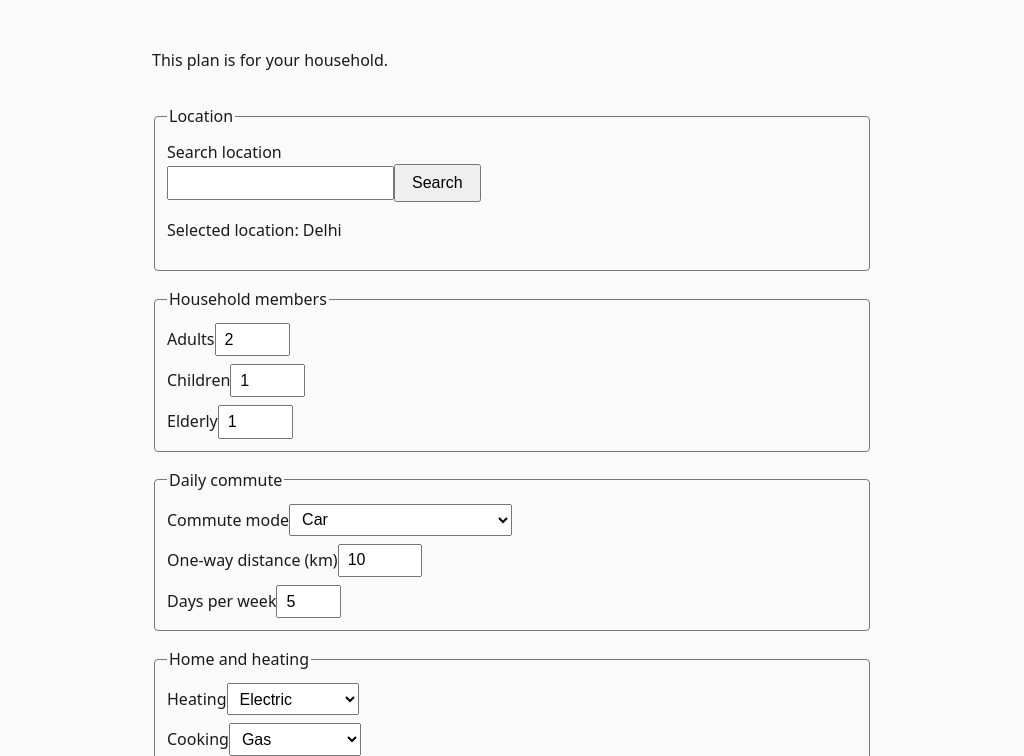
Test: ProfileForm › shows visible labels for multiple invalid fields without schema paths
Replace the text in the number field labelled "Adults" with "0": (252, 340) x1=214 y1=323 x2=290 y2=356
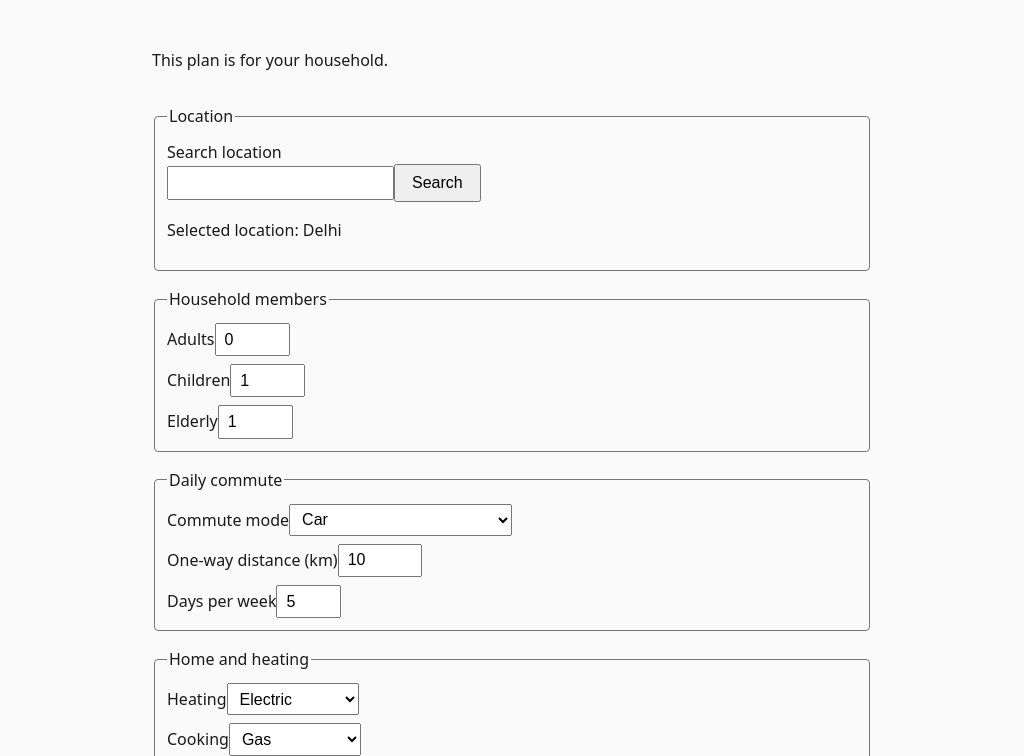
Replace the text in the number field labelled "One-way distance (km)" with "-1": (380, 560) x1=338 y1=544 x2=422 y2=577
(page scrolled)
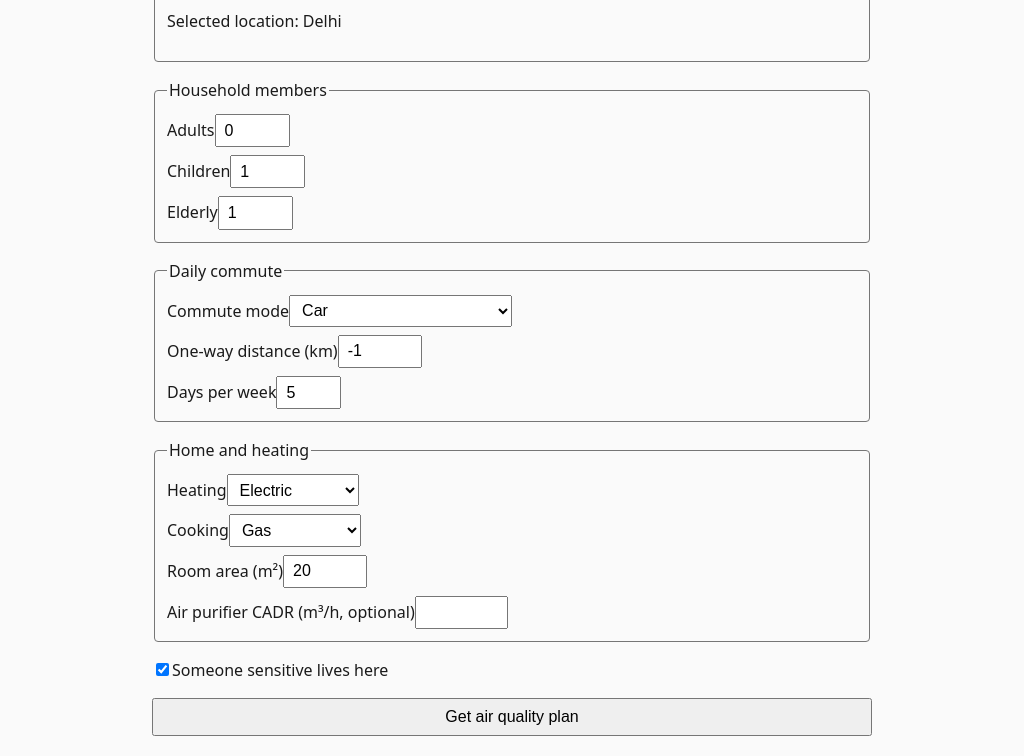
Click the button "Get air quality plan": (512, 717) x1=152 y1=698 x2=872 y2=736
(page scrolled)
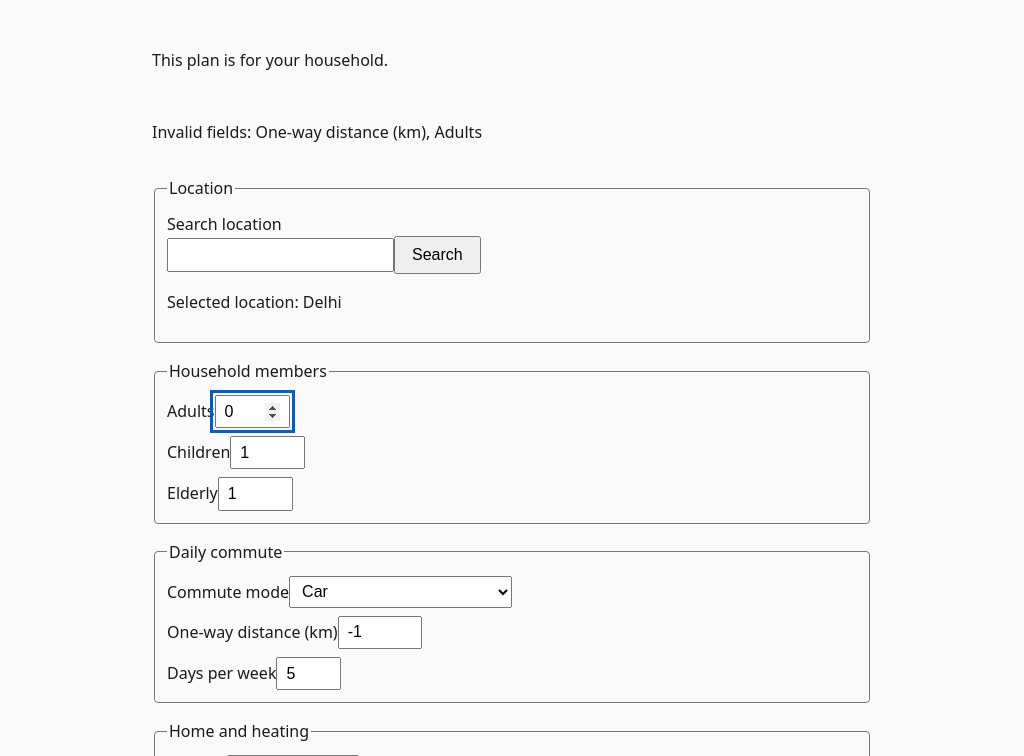
Check: the message shows "Adults", box x1=152 y1=121 x2=482 y2=143
Check: the message shows "One-way distance (km)", box x1=152 y1=121 x2=482 y2=143
